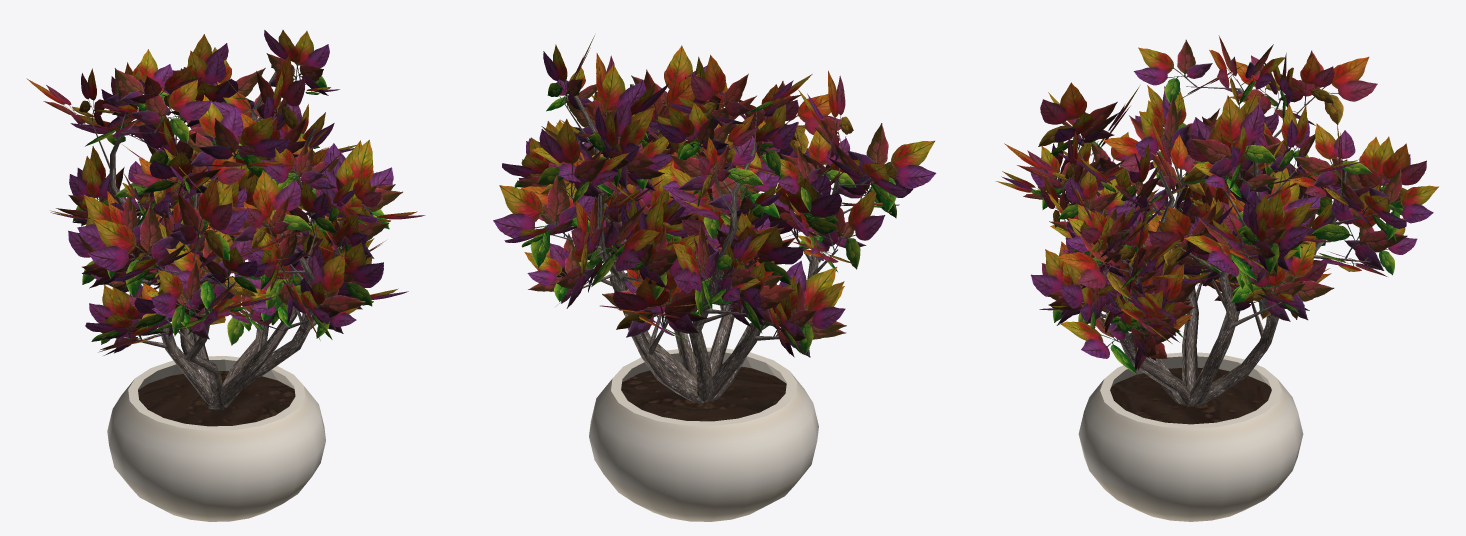
Rendered from plant5.fbx.
The picture shows the model from 3 angles, left to right: view 1: azimuth 30°, elevation 25°; view 2: azimuth 150°, elevation 25°; view 3: azimuth 270°, elevation 25°; orthographic projection. The views are drawn at different scales.
Visible parts, largest first — view 1: plant5, pot5; view 2: plant5, pot5; view 3: plant5, pot5.
Part boxes in pixels (x1,y1,x2,y2): plant5: (26, 30, 425, 409); pot5: (107, 356, 325, 521); plant5: (493, 35, 936, 404); pot5: (589, 347, 818, 521); plant5: (995, 35, 1438, 406); pot5: (1078, 352, 1303, 521).
Size of the model in its own units: 2.11 by 2.6 by 2.41.
Materials: 6 (6 with a texture image).
